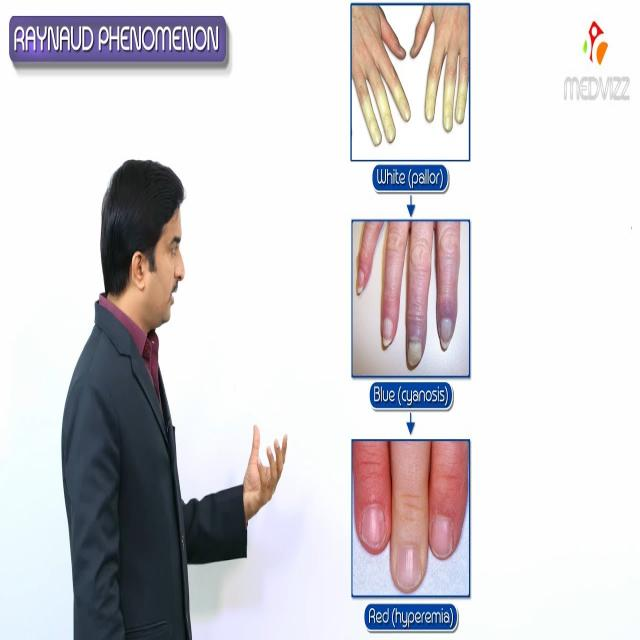raynauds: (350, 441, 391, 572), (426, 449, 468, 576), (362, 87, 415, 150), (402, 312, 460, 365), (421, 80, 468, 136)
